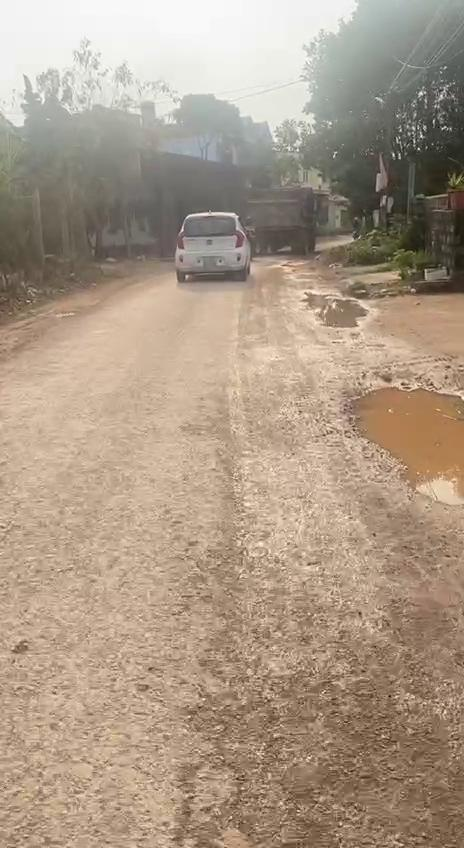pothole: (343, 372, 464, 508), (300, 291, 372, 335)
